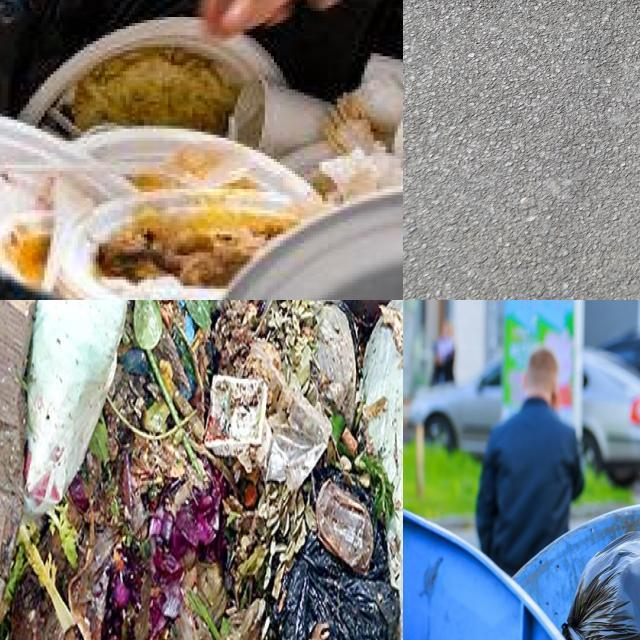Background: (403, 0, 640, 300)
Disposable: (315, 480, 373, 574), (204, 377, 268, 456)
Garbage: (0, 300, 403, 640), (0, 17, 403, 300)
Plastic_Bag: (403, 0, 640, 300), (24, 300, 125, 515), (276, 525, 399, 640), (561, 532, 640, 640), (317, 303, 357, 427)
contaminated_waste: (0, 118, 128, 285), (223, 192, 403, 300), (73, 128, 314, 201)
